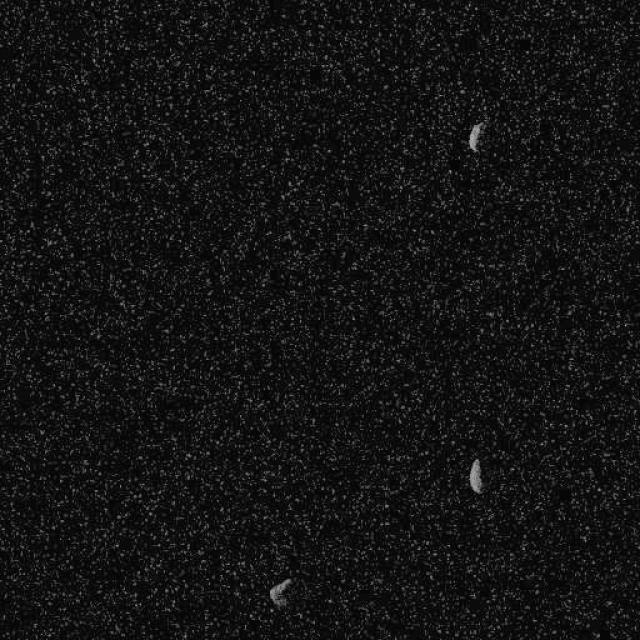D2: (268, 576, 292, 608), (466, 120, 486, 152), (468, 458, 482, 493)
